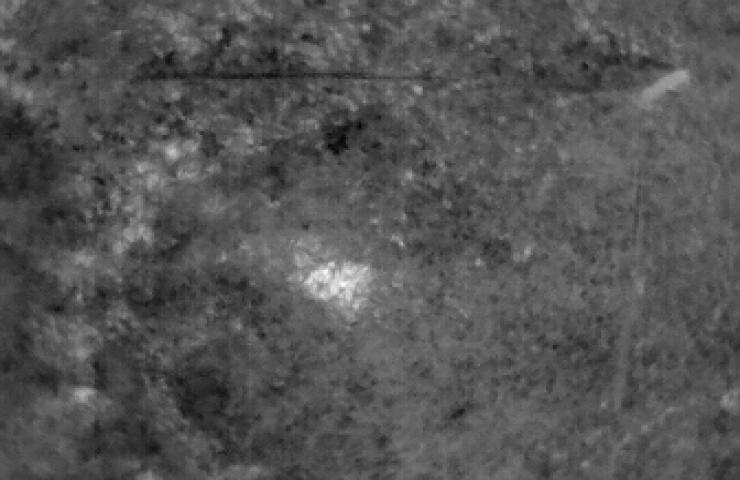landmines: (298, 254, 379, 316)
